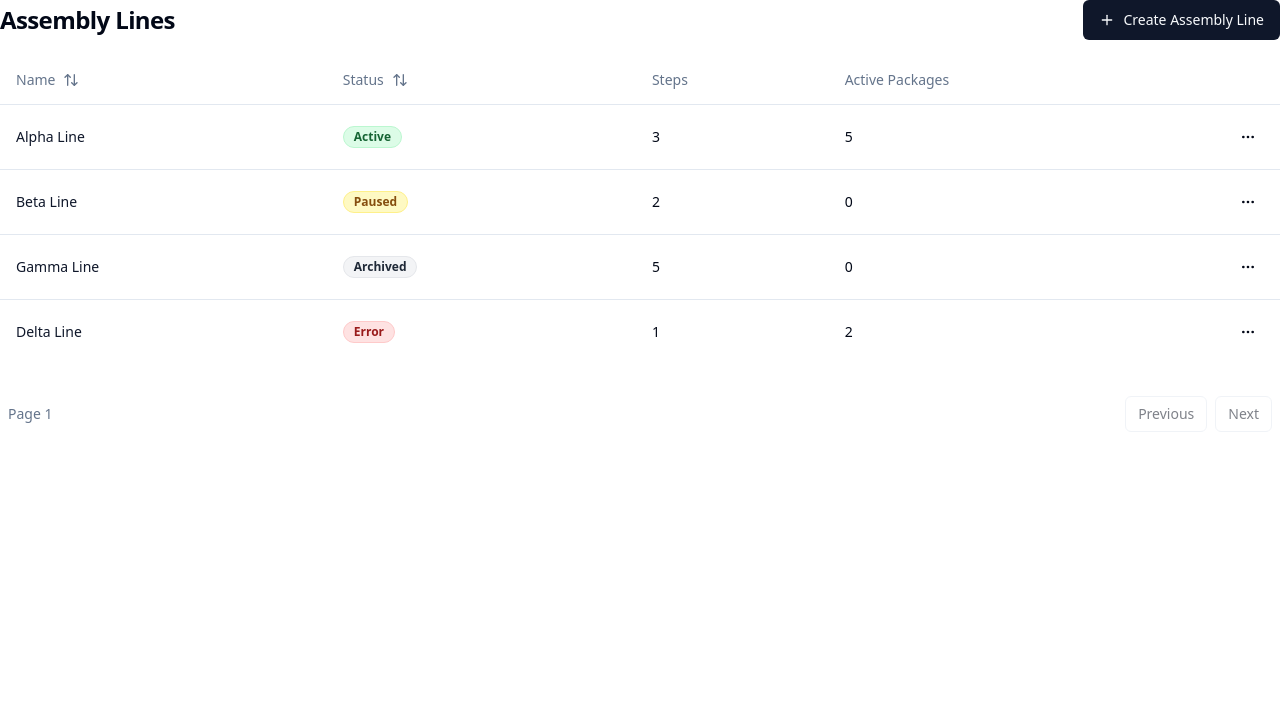
Test: AssemblyLineListPage › Confirmation dialog › opens a confirmation dialog when Archive is clicked
The image size is (1280, 720).
Expected: the link "Alpha Line" is shown, [16,126,85,146]
Click the button named "Open actions for" in the row of "Alpha Line" at (1248, 136), box [1232,120,1264,152]
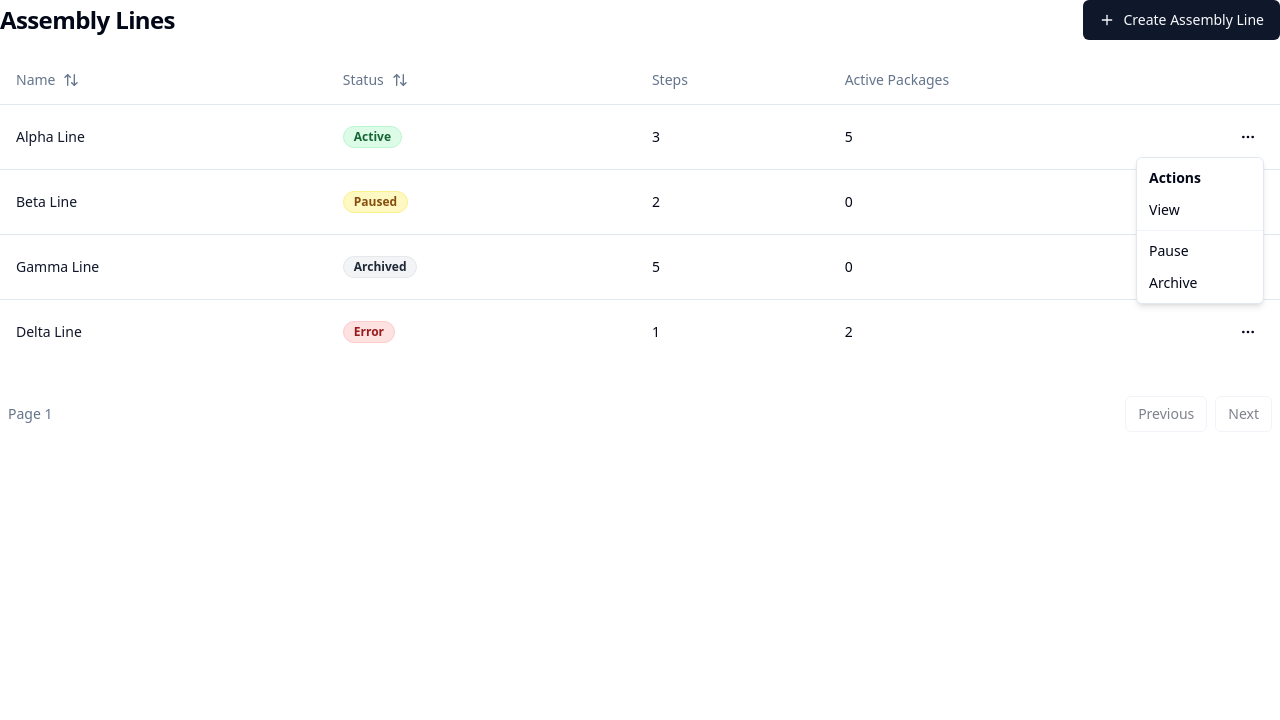
Click the menu item "Archive" at (1173, 282), box [1149,273,1198,292]
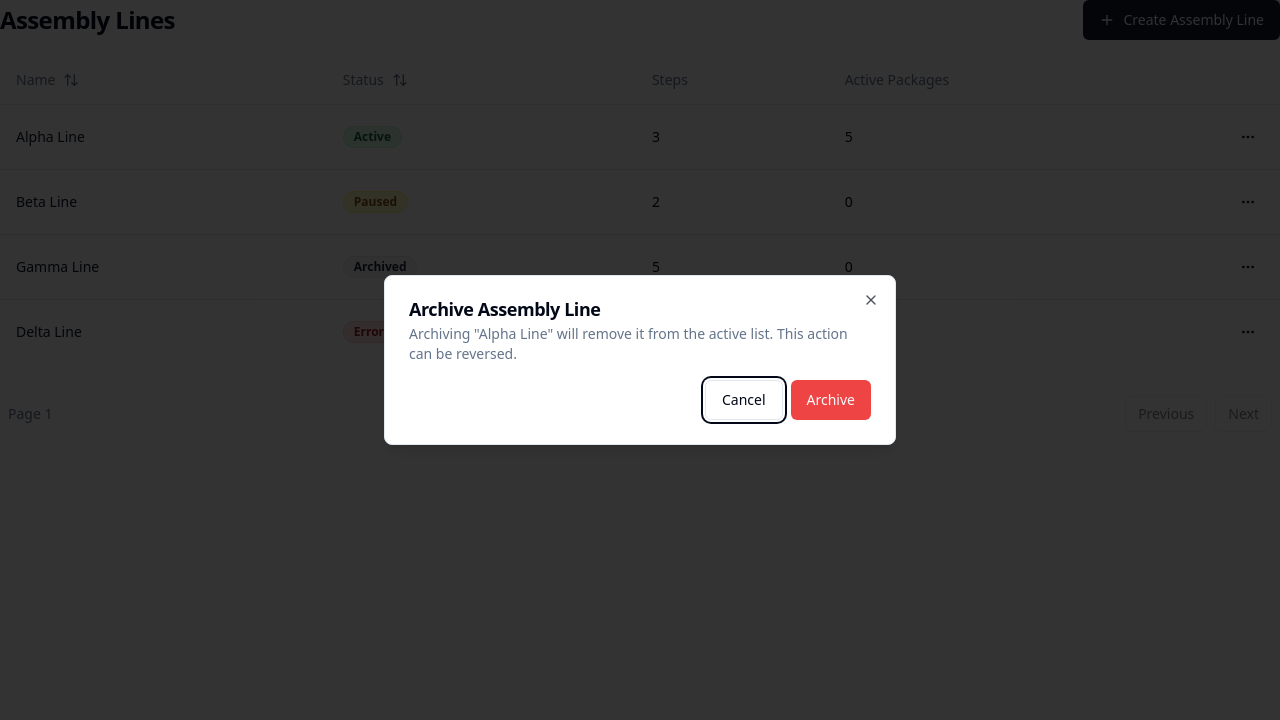
Now the heading "Archive Assembly Line" is shown, box [409,297,600,321]
Now the text "will remove it from the active list" is shown, box [409,324,848,363]
